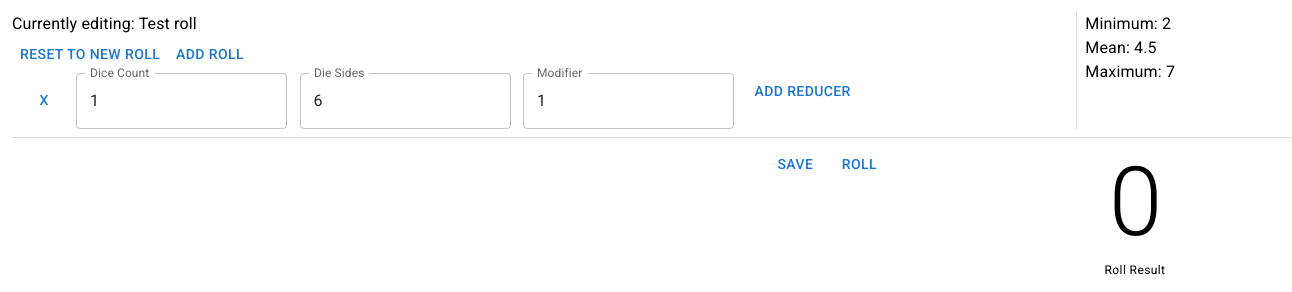
Test: Editing › Can reset a selected roll
Expected: the number of number fields with test id "dieComponent-sides" is 1, [300,72,510,128]
Click the button with test id "roller-reset".
click(90, 54)  # box [12,36,168,72]
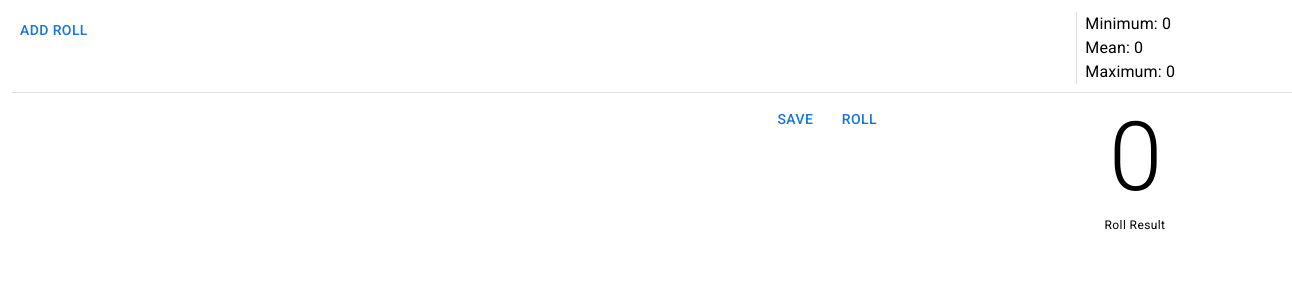
Now no number fields with test id "dieComponent-sides" are shown
